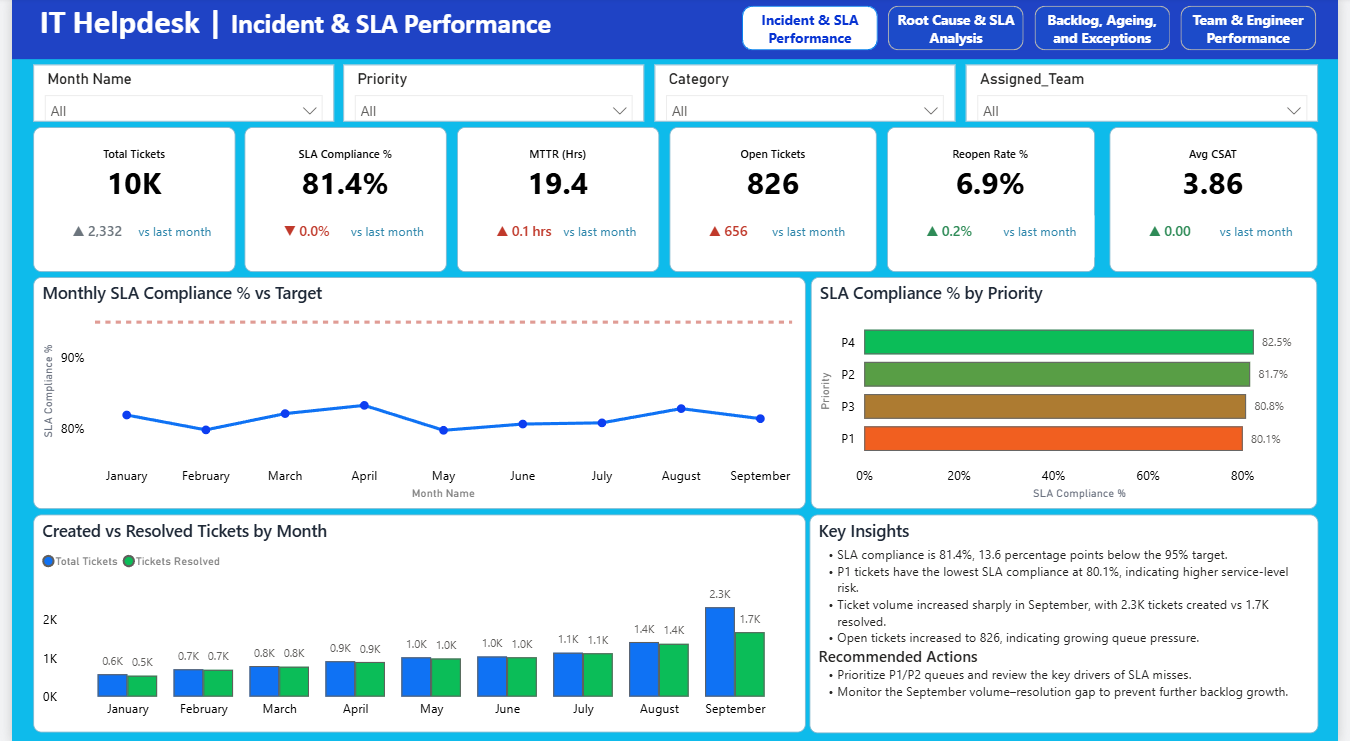

What the dashboard file says about the page in this screenshot:
{"tool":"powerbi","page":{"name":"Incident & SLA Performance","canvas":[1280,720],"ordinal":0},"visuals":[{"type":"slicer","fields":{"Values":["Dim_Date.Month Name"]},"box":[20,65,290,55],"z":0},{"type":"slicer","fields":{"Values":["Dim_Priority.Priority"]},"box":[320,65,290,55.5],"z":1000},{"type":"slicer","fields":{"Values":["Dim_Engineer.Assigned_Team"]},"box":[920,65,340,55.5],"z":2000},{"type":"slicer","fields":{"Values":["Dim_Category.Category"]},"box":[620,65,290,55.5],"z":3000},{"type":"cardVisual","fields":{"Data":["_Measures.MTTR (Hrs)"]},"box":[430,125,195,140],"z":4000},{"type":"lineChart","title":"Monthly SLA Compliance % vs Target","fields":{"Y":["_Measures.SLA Compliance %"],"Category":["Dim_Date.Month Name"]},"box":[20.5,270.2,745.6,224.4],"z":5000},{"type":"clusteredBarChart","fields":{"Category":["Dim_Priority.Priority"],"Y":["_Measures.SLA Compliance %"]},"box":[770.9,270.2,488.6,224.4],"z":6000},{"type":"clusteredColumnChart","title":"Created vs Resolved Tickets by Month","fields":{"Category":["Dim_Date.Month Name"],"Y":["_Measures.Total Tickets","_Measures.Tickets Resolved"]},"box":[20.5,500,745.6,210],"z":7000},{"type":"textbox","title":"Key Insights","box":[769.7,499.5,491,211.1],"z":8000},{"type":"textbox","box":[0,0,1280.3,60],"z":9000},{"type":"pageNavigator","box":[704.6,8.4,555,43.4],"z":10000},{"type":"cardVisual","fields":{"Data":["_Measures.SLA Compliance %"]},"box":[225,125,195,140],"z":11000},{"type":"cardVisual","fields":{"Data":["_Measures.Total Tickets"]},"box":[20,125,195,140],"z":12000},{"type":"cardVisual","fields":{"Data":["_Measures.Open Tickets"]},"box":[635,125,200,140],"z":13000},{"type":"cardVisual","fields":{"Data":["_Measures.Reopen Rate %"]},"box":[845,125,200.7,140],"z":14000},{"type":"cardVisual","fields":{"Data":["_Measures.Avg CSAT"]},"box":[1059,125,200.7,140],"z":15000},{"type":"textbox","box":[527.2,211,84.5,39.8],"z":16000},{"type":"textbox","box":[117,211,85.7,31.4],"z":17000},{"type":"textbox","box":[322.1,211,88.1,31.4],"z":18000},{"type":"textbox","box":[729.2,211,91.7,30.6],"z":19000},{"type":"textbox","box":[951.4,211,93.1,40.3],"z":20000},{"type":"textbox","box":[1161.1,211,93.1,30.6],"z":21000}]}

Visuals, with their boxes in screenshot pixels (x1, y1, x2, y2), scaled from the page's 1280x720 canvas onto the 1350x741 screenshot:
slicer - Dim_Date.Month Name: (x1=21, y1=67, x2=327, y2=123)
slicer - Dim_Priority.Priority: (x1=338, y1=67, x2=643, y2=124)
slicer - Dim_Engineer.Assigned_Team: (x1=970, y1=67, x2=1329, y2=124)
slicer - Dim_Category.Category: (x1=654, y1=67, x2=960, y2=124)
cardVisual - _Measures.MTTR (Hrs): (x1=454, y1=129, x2=659, y2=273)
"Monthly SLA Compliance % vs Target" lineChart: (x1=22, y1=278, x2=808, y2=509)
clusteredBarChart - Dim_Priority.Priority x _Measures.SLA Compliance %: (x1=813, y1=278, x2=1328, y2=509)
"Created vs Resolved Tickets by Month" clusteredColumnChart: (x1=22, y1=515, x2=808, y2=731)
"Key Insights" textbox: (x1=812, y1=514, x2=1330, y2=731)
textbox: (x1=0, y1=0, x2=1349, y2=62)
pageNavigator: (x1=743, y1=9, x2=1328, y2=53)
cardVisual - _Measures.SLA Compliance %: (x1=237, y1=129, x2=443, y2=273)
cardVisual - _Measures.Total Tickets: (x1=21, y1=129, x2=227, y2=273)
cardVisual - _Measures.Open Tickets: (x1=670, y1=129, x2=881, y2=273)
cardVisual - _Measures.Reopen Rate %: (x1=891, y1=129, x2=1103, y2=273)
cardVisual - _Measures.Avg CSAT: (x1=1117, y1=129, x2=1329, y2=273)
textbox: (x1=556, y1=217, x2=645, y2=258)
textbox: (x1=123, y1=217, x2=214, y2=249)
textbox: (x1=340, y1=217, x2=433, y2=249)
textbox: (x1=769, y1=217, x2=866, y2=249)
textbox: (x1=1003, y1=217, x2=1102, y2=259)
textbox: (x1=1225, y1=217, x2=1323, y2=249)
